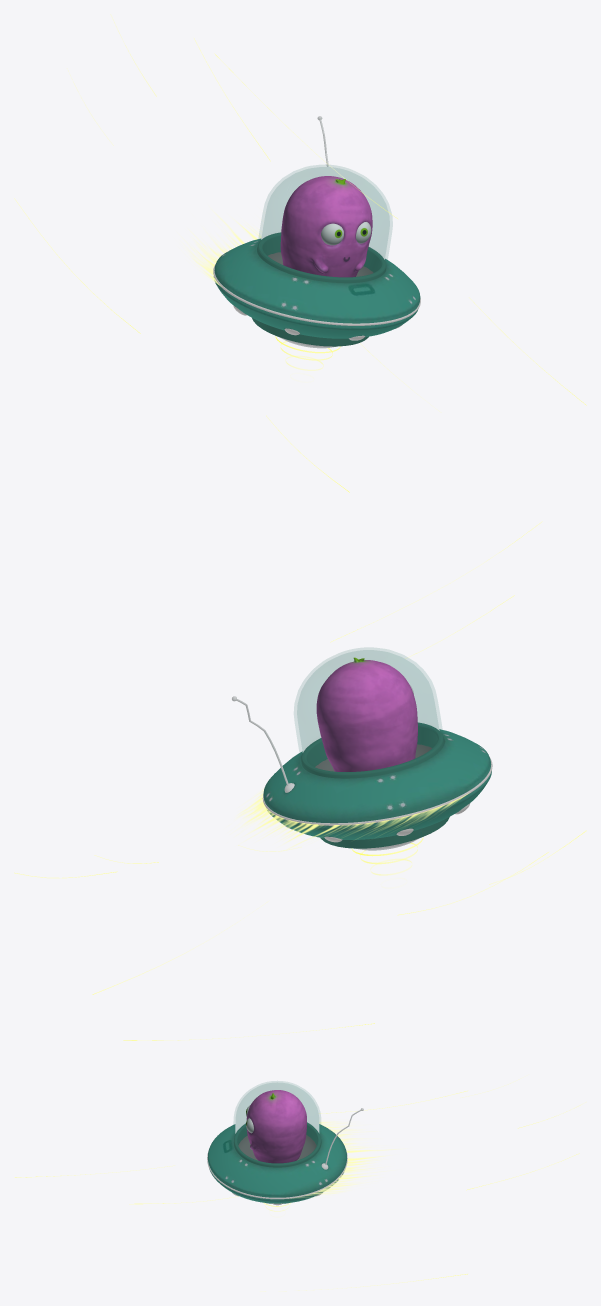
File: ufo-transformed.glb
3 views of the same model, one above another, from view 1: azimuth 30°, elevation 25°; view 2: azimuth 150°, elevation 25°; view 3: azimuth 270°, elevation 25° (orthographic). The views are drawn at different scales.
Visible parts, largest first — view 1: Ufo_ship_low_Ship_0, Alien_low_Alien_0, trails_trails_0; view 2: Ufo_ship_low_Ship_0, Alien_low_Alien_0, trails_trails_0; view 3: Ufo_ship_low_Ship_0, Alien_low_Alien_0, trails_trails_0.
Part boxes in pixels (x1,y1,x2,y2): Ufo_ship_low_Ship_0: (213, 116, 420, 348); Alien_low_Alien_0: (280, 176, 372, 277); trails_trails_0: (14, 15, 586, 492); Ufo_ship_low_Ship_0: (232, 648, 492, 850); Alien_low_Alien_0: (316, 657, 417, 771); trails_trails_0: (14, 521, 586, 994); Ufo_ship_low_Ship_0: (207, 1081, 363, 1205); Alien_low_Alien_0: (246, 1090, 306, 1163); trails_trails_0: (14, 1023, 581, 1291).
Size of the model in its own units: 256 by 289 by 675.
Materials: 3 (3 with a texture image).
